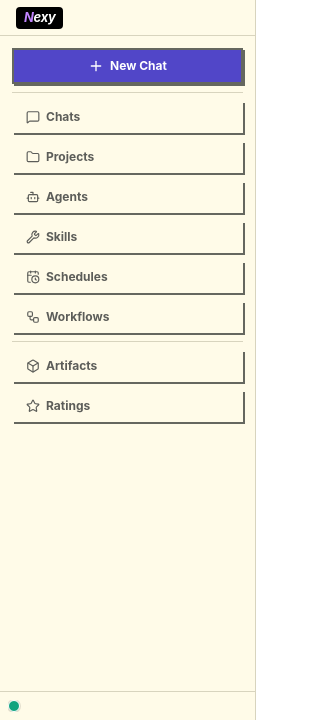
it: Sidebar › shows compact status dots for configured providers and available CLI tools
Step 1. Hover over the picture named "API keys configured API key is active" → (14, 706), box [8,700,20,712]
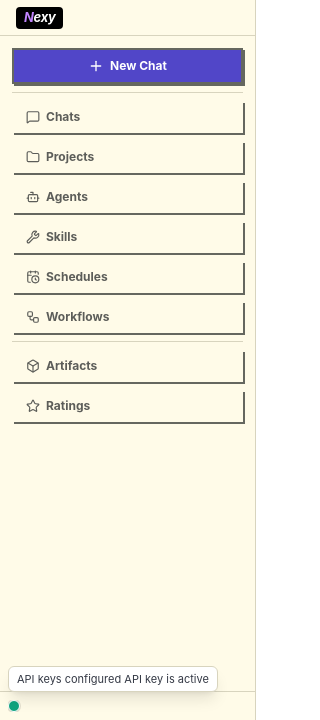
Expected: the tooltip reads "API keys configured API key is active", [17,672,209,686]
